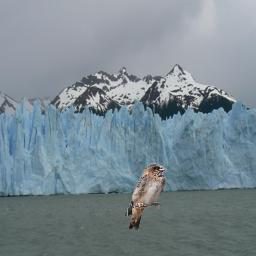Swallow: (124, 163, 167, 230)
